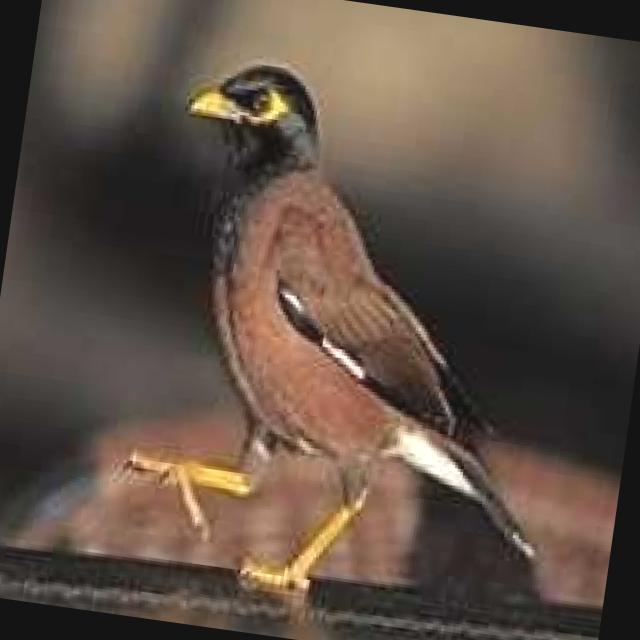bird: (111, 40, 601, 630)
